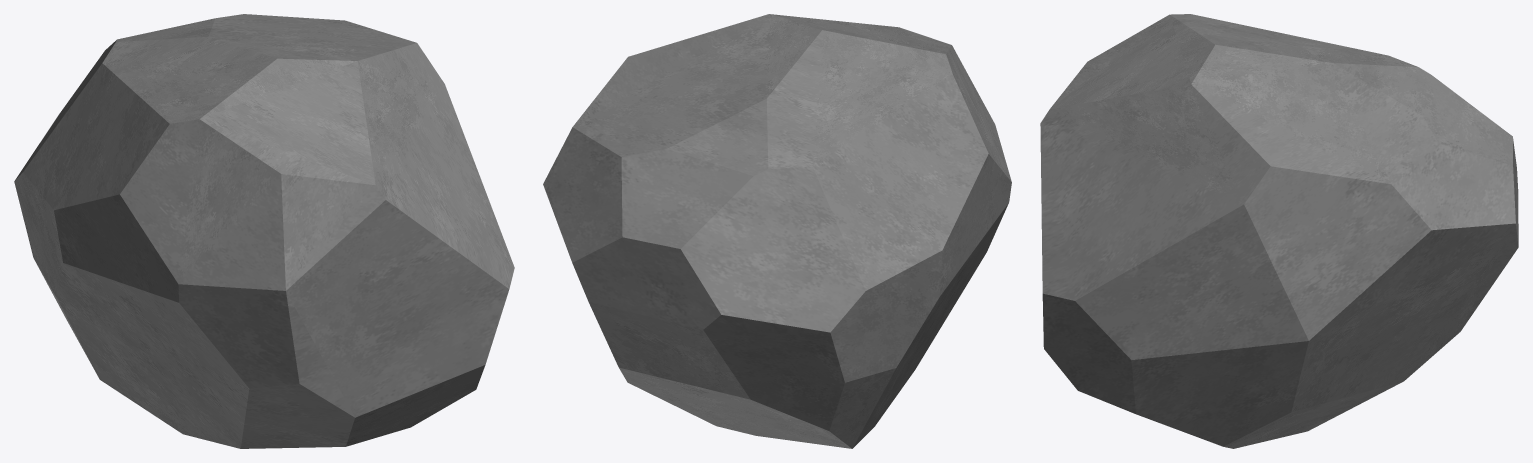
File: Rock_4.fbx
3 views of the same model, side by side, from view 1: azimuth 30°, elevation 25°; view 2: azimuth 150°, elevation 25°; view 3: azimuth 270°, elevation 25° (orthographic). The views are drawn at different scales.
Visible parts, largest first — view 1: Rock.010; view 2: Rock.010; view 3: Rock.010.
Boxes of the visible parts, <box> form: Rock.010: <box>14,14,514,448</box>; Rock.010: <box>543,14,1011,448</box>; Rock.010: <box>1040,14,1518,448</box>.
Size of the model in its own units: 140 by 132 by 159.
